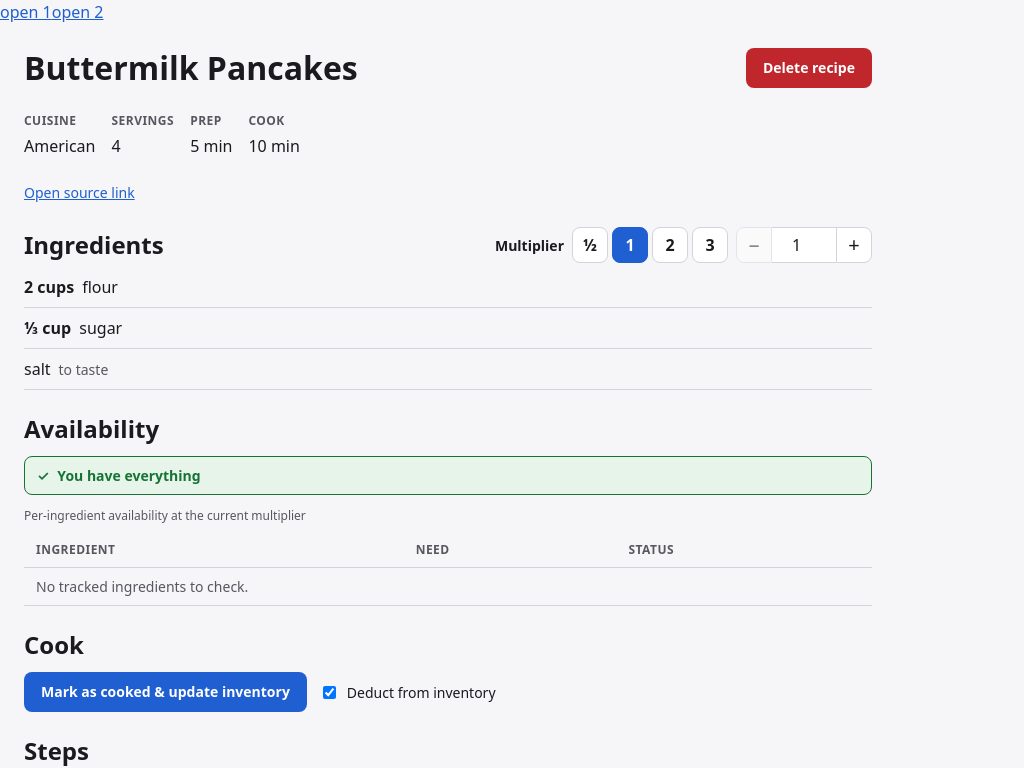
Test: RecipeDetail delete › confirms, deletes, and navigates to the list
Expected: the heading "Buttermilk Pancakes" is shown, [24,48,358,88]
Click the button "Delete recipe": (809, 68) [746,48,872,88]
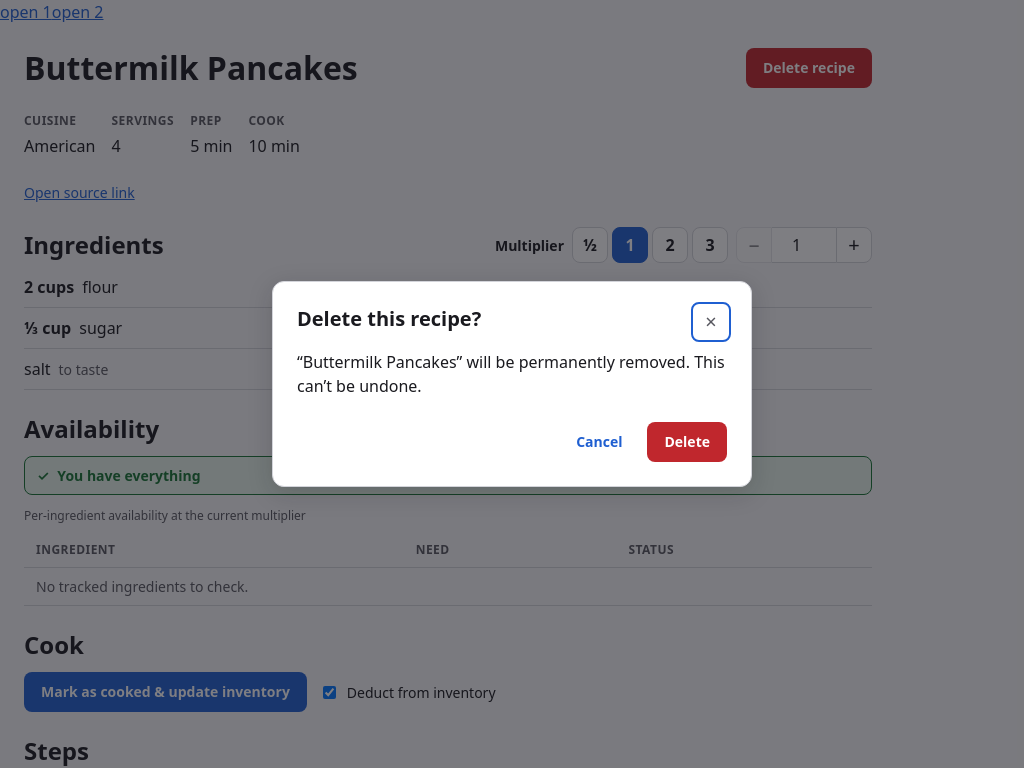
Click the button "Delete": (687, 442) [648,422,727,462]
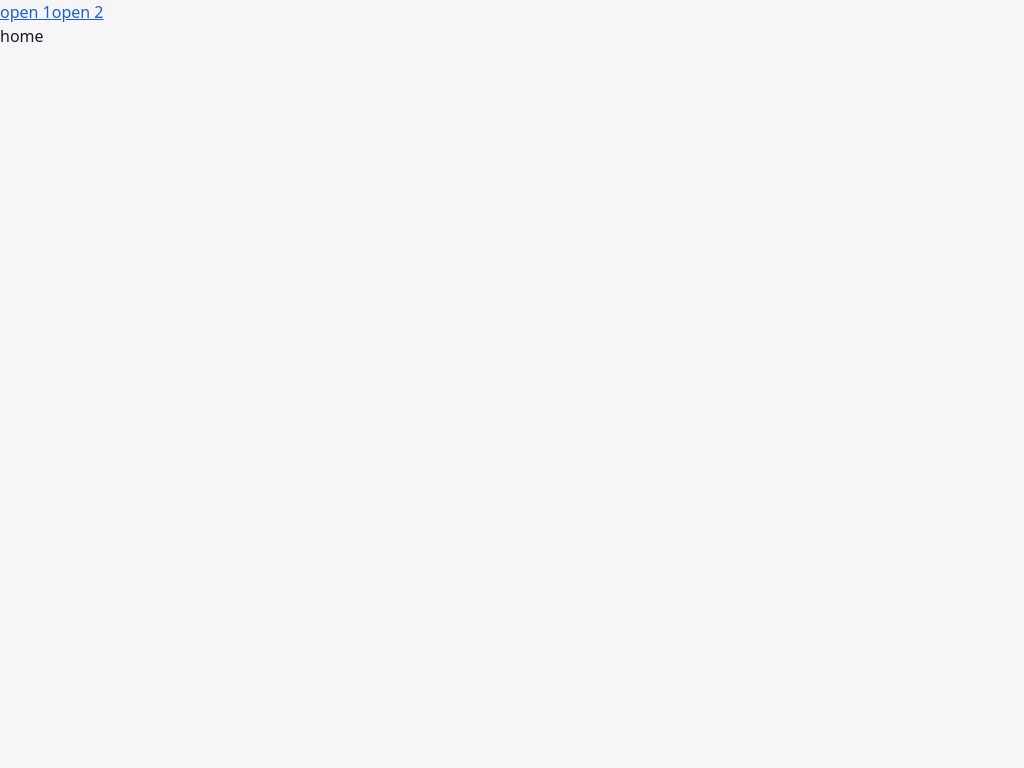
Now the text "home" is shown, box [0,25,44,47]
